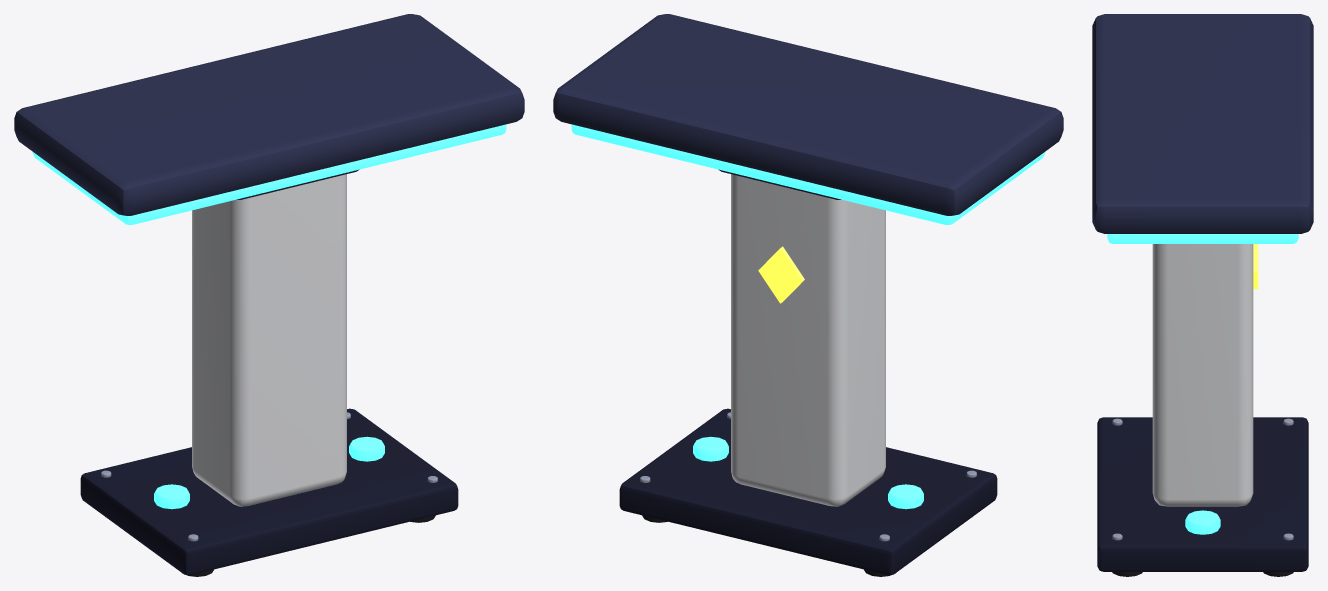
The model's file is weapon_pedestal.glb.
The picture shows the model from 3 angles, left to right: view 1: azimuth 30°, elevation 25°; view 2: azimuth 150°, elevation 25°; view 3: azimuth 270°, elevation 25°; orthographic projection.
Parts seen in each view (by area): view 1: Body; view 2: Body; view 3: Body.
Boxes of the visible parts, x1,y1,x2,y2 form: Body: [14, 14, 524, 576]; Body: [553, 14, 1063, 576]; Body: [1092, 14, 1313, 576].
Size of the model in its own units: 0.92 by 0.9 by 0.44.
